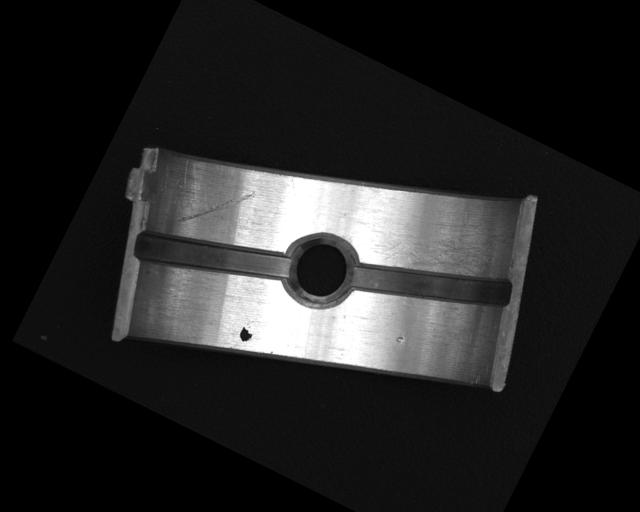blot: (236, 321, 257, 345)
bruise: (393, 333, 406, 345)
gap: (346, 217, 514, 351), (128, 192, 295, 322)
hole: (274, 224, 365, 319)
nick: (177, 165, 257, 247)
scratch: (365, 181, 515, 311)
